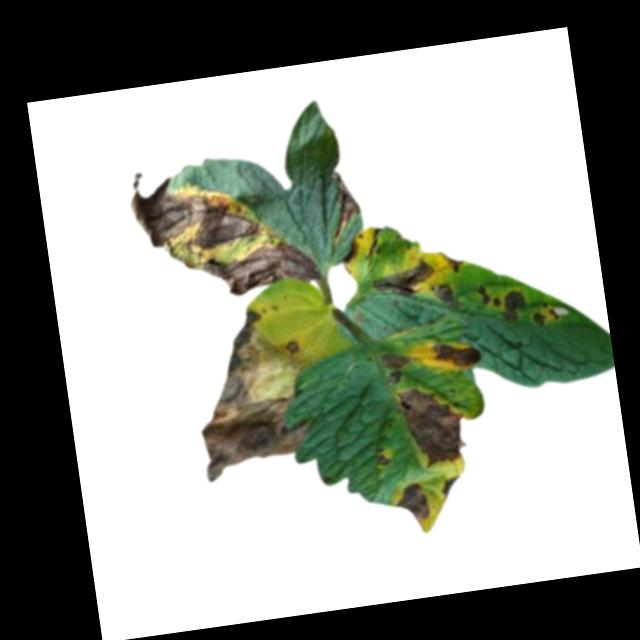Early_blight: (184, 300, 320, 485), (126, 155, 279, 260), (183, 235, 322, 302), (393, 378, 470, 472), (369, 257, 436, 304), (323, 167, 363, 241), (425, 335, 486, 375), (393, 476, 431, 523), (381, 350, 415, 388), (501, 288, 530, 319), (529, 299, 560, 327), (434, 282, 464, 308), (440, 251, 468, 278), (439, 473, 463, 499), (477, 283, 503, 307), (341, 241, 363, 265), (376, 442, 392, 467)
